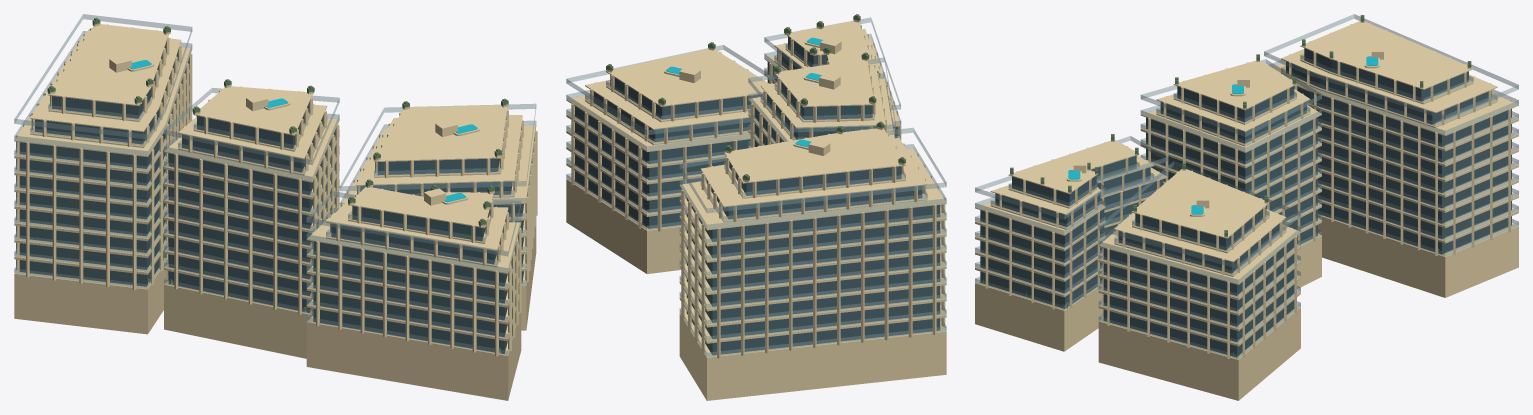
The model's file is tigne-17.glb.
The picture shows the model from 3 angles, left to right: view 1: azimuth 30°, elevation 25°; view 2: azimuth 150°, elevation 25°; view 3: azimuth 270°, elevation 25°; orthographic projection. The views are drawn at different scales.
Visible parts, largest first — view 1: T9P Wohnhaus, T8F Wohnhaus, T8B Wohnhaus, T9F Wohnhaus; view 2: T9P Wohnhaus, T9F Wohnhaus, T8B Wohnhaus, T8F Wohnhaus; view 3: T9P Wohnhaus, T9F Wohnhaus, T8F Wohnhaus, T8B Wohnhaus.
Part boxes in pixels (x1=…): T9P Wohnhaus: x1=14, y1=14, x2=192, y2=334; T8F Wohnhaus: x1=306, y1=179, x2=521, y2=400; T8B Wohnhaus: x1=164, y1=79, x2=339, y2=358; T9F Wohnhaus: x1=339, y1=98, x2=537, y2=330; T9P Wohnhaus: x1=679, y1=121, x2=946, y2=400; T9F Wohnhaus: x1=566, y1=42, x2=777, y2=273; T8B Wohnhaus: x1=748, y1=52, x2=895, y2=147; T8F Wohnhaus: x1=764, y1=14, x2=901, y2=140; T9P Wohnhaus: x1=1264, y1=14, x2=1518, y2=297; T9F Wohnhaus: x1=1098, y1=161, x2=1300, y2=400; T8F Wohnhaus: x1=975, y1=134, x2=1167, y2=351; T8B Wohnhaus: x1=1140, y1=54, x2=1321, y2=288.
Bounding box in the file's own units: 88.37 × 40.6 × 99.44.
